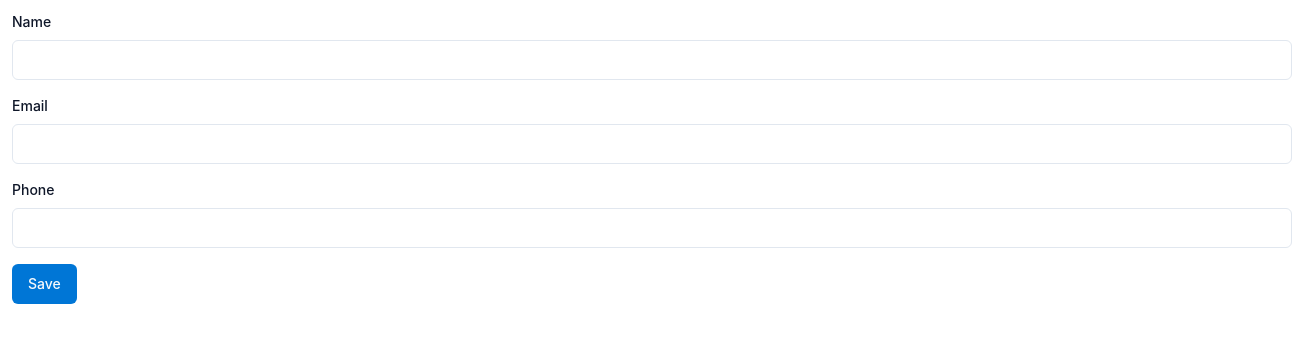
Scenario: ContactForm › shows an email-format error when email is malformed
Type "Alice" into the field labelled "Name".
click(652, 60); type("Alice")  # box [12, 40, 1292, 80]
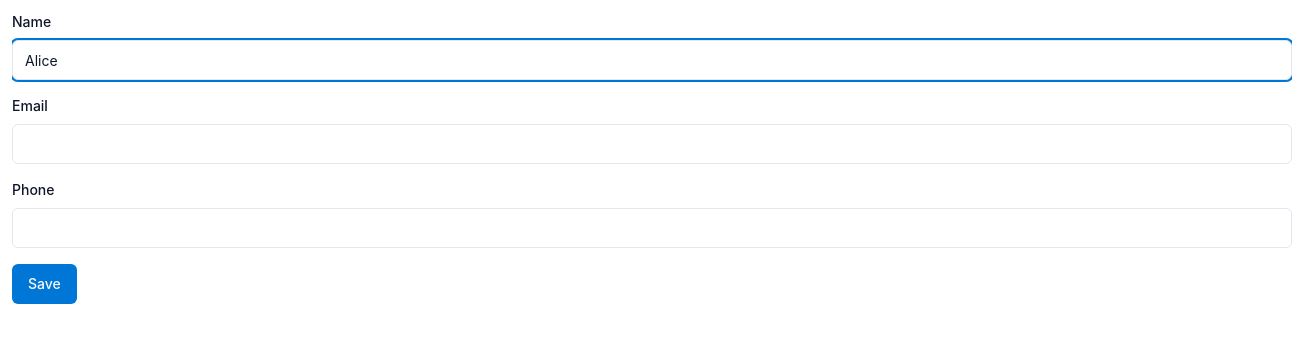
Type "not-an-email" into the field labelled "Email".
click(652, 144); type("not-an-email")  # box [12, 124, 1292, 164]
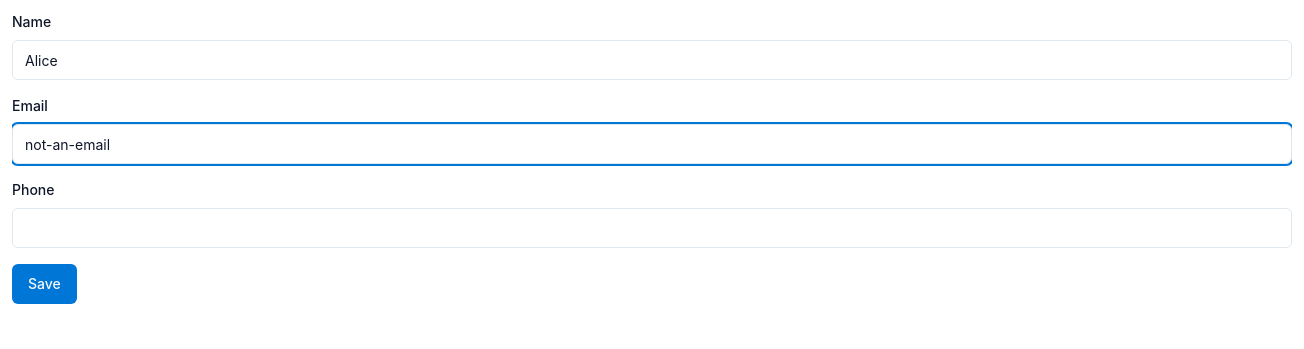
Click the button "Save".
click(44, 284)  # box [12, 264, 77, 304]
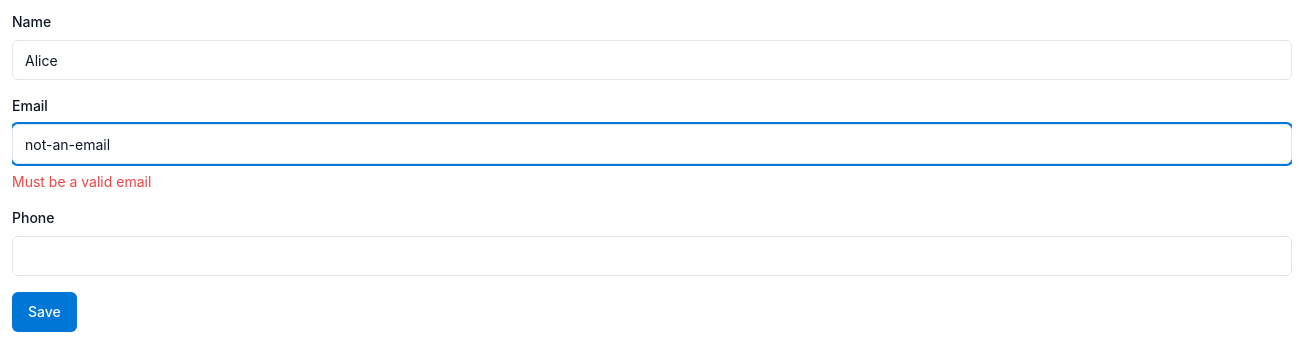
Expected: the text "Must be a valid email" is shown, [12, 173, 151, 190]
